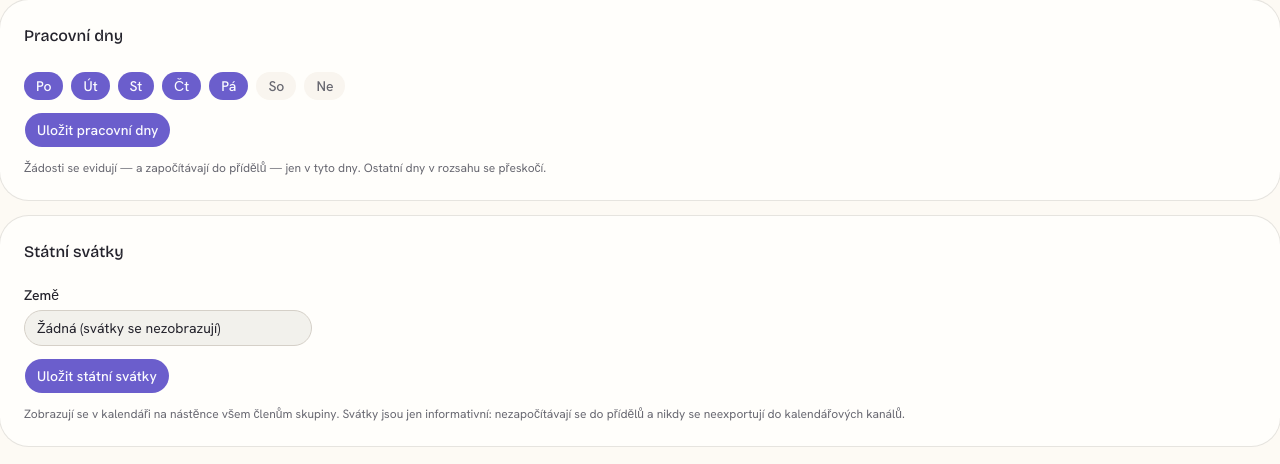
Test: group detail saves refused by a plan limit › explains a refused working days save in the user's language
The image size is (1280, 464).
Click the button "Uložit pracovní dny" at coordinates (98, 130), box [24, 112, 171, 148]
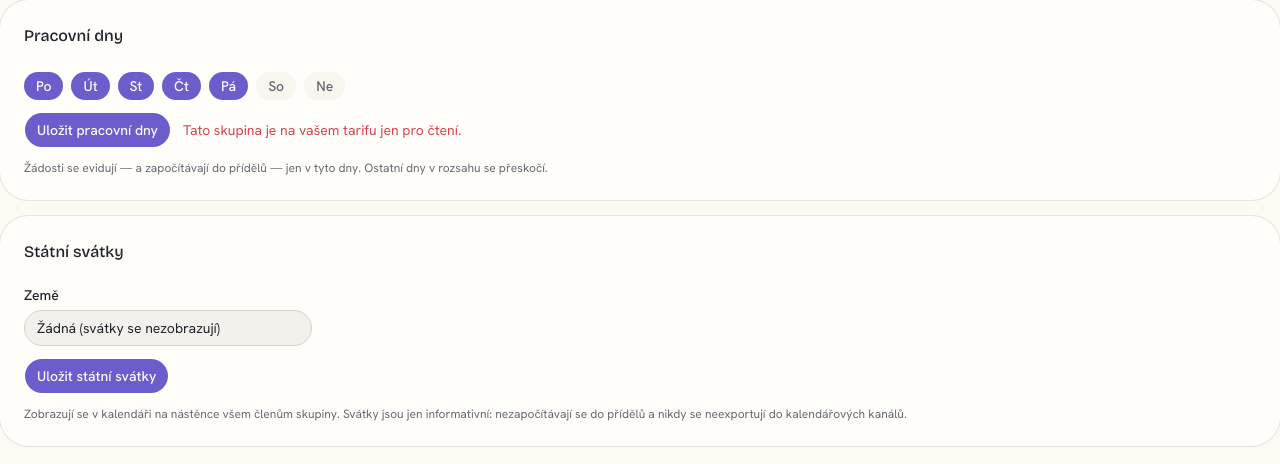
Expected: the text "Tato skupina je na vašem tarifu jen pro čtení." is shown, [183, 120, 461, 140]
